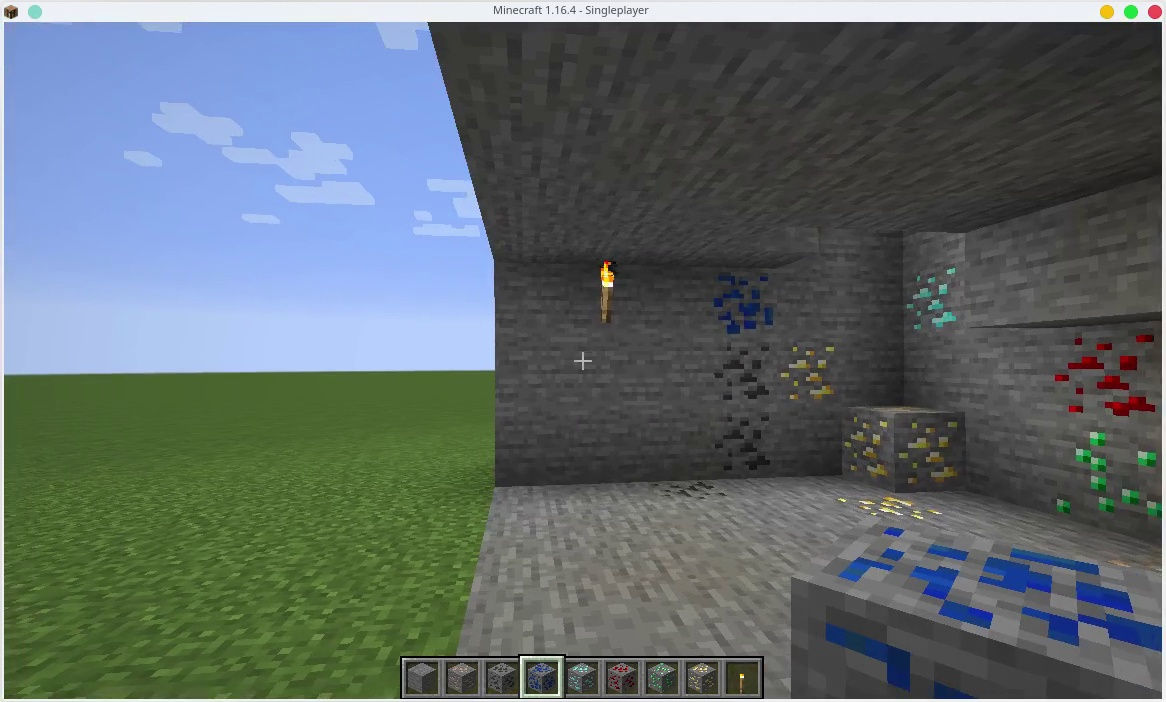gold: (844, 407, 962, 483), (775, 344, 839, 404), (831, 496, 947, 523), (685, 661, 718, 696)
